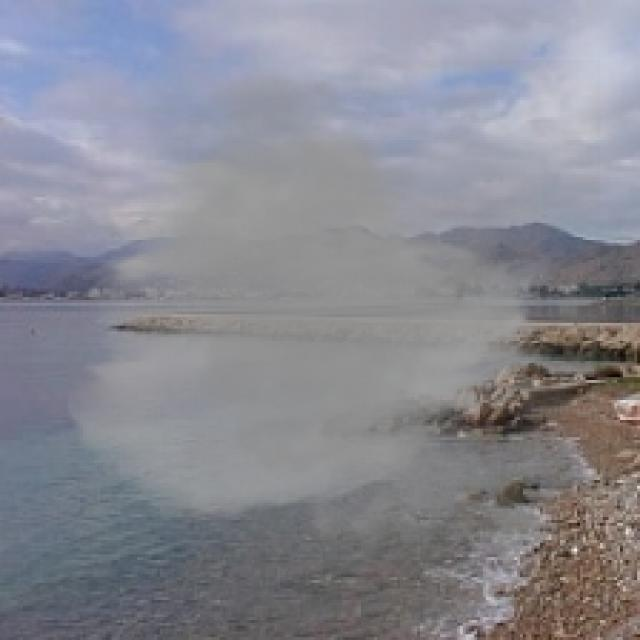smoke: (63, 60, 600, 577)
